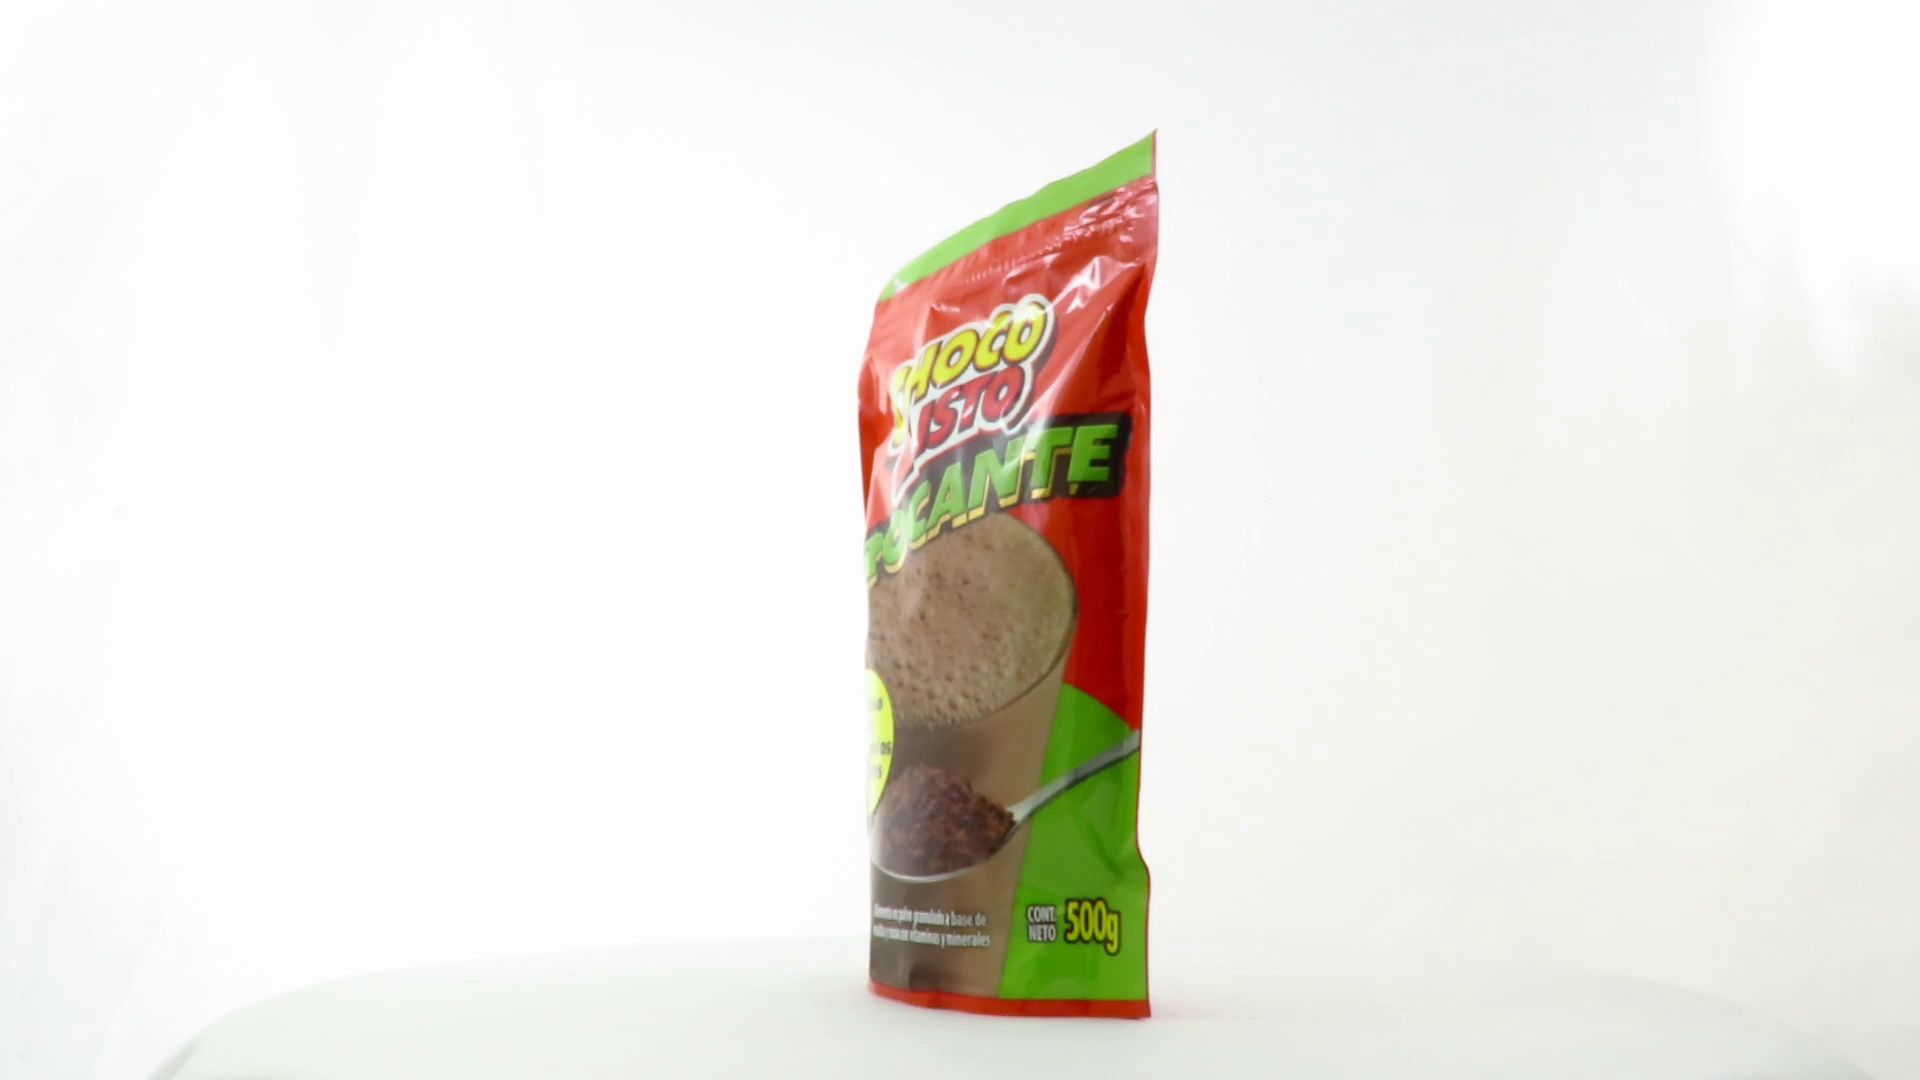COL0170102DYP50000: (853, 123, 1166, 1026)
